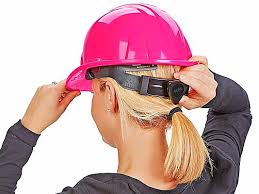Casco de seguridad: (61, 0, 236, 98)
